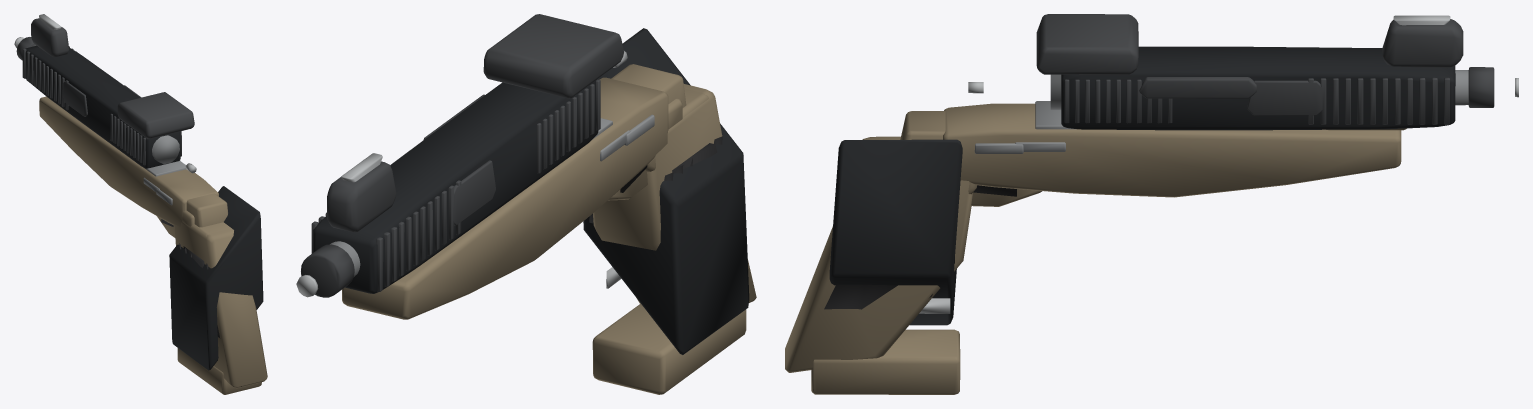
Rendered from five-seven.glb.
The picture shows the model from 3 angles, left to right: view 1: azimuth 30°, elevation 25°; view 2: azimuth 150°, elevation 25°; view 3: azimuth 270°, elevation 25°; orthographic projection. The views are drawn at different scales.
Parts seen in each view (by area): view 1: AccessoryRail_Batched, MagazineBody, SlideBody, RearSightBase, TriggerGuard, FrontSightBase, MagazineFloorPlate, Barrel_Batched, SlideScallopL, SlideRailBlock, MagazineWell; view 2: AccessoryRail_Batched, MagazineBody, SlideBody, RearSightBase, MagazineFloorPlate, FrontSightBase, BarrelCrown, TriggerGuard, SlideScallopL, Barrel_Batched, GripCheckering0_-1_Batched, FrontSightPost (+2 smaller); view 3: AccessoryRail_Batched, SlideBody, MagazineBody, MagazineFloorPlate, RearSightBase, FrontSightBase, SlideScallopR, EjectionPort, TriggerGuard, Barrel_Batched, GripCheckering0_-1_Batched, BarrelCrown (+1 smaller).
Part boxes in pixels (bbox=[...]): AccessoryRail_Batched: bbox=[39, 96, 267, 388]; MagazineBody: bbox=[169, 186, 263, 370]; SlideBody: bbox=[25, 45, 180, 168]; RearSightBase: bbox=[117, 92, 194, 138]; TriggerGuard: bbox=[157, 193, 227, 237]; FrontSightBase: bbox=[31, 18, 69, 57]; MagazineFloorPlate: bbox=[177, 348, 261, 394]; Barrel_Batched: bbox=[31, 44, 179, 192]; SlideScallopL: bbox=[62, 81, 87, 116]; SlideRailBlock: bbox=[144, 160, 186, 176]; MagazineWell: bbox=[173, 222, 231, 237]; AccessoryRail_Batched: bbox=[342, 77, 756, 319]; MagazineBody: bbox=[583, 28, 749, 354]; SlideBody: bbox=[313, 79, 598, 293]; RearSightBase: bbox=[483, 14, 623, 98]; MagazineFloorPlate: bbox=[592, 304, 746, 394]; FrontSightBase: bbox=[327, 161, 396, 232]; BarrelCrown: bbox=[301, 244, 354, 297]; TriggerGuard: bbox=[608, 64, 686, 200]; SlideScallopL: bbox=[453, 160, 495, 225]; Barrel_Batched: bbox=[330, 130, 630, 276]; GripCheckering0_-1_Batched: bbox=[589, 136, 722, 223]; FrontSightPost: bbox=[341, 153, 382, 182]; AccessoryRail_Batched: bbox=[785, 103, 1406, 372]; SlideBody: bbox=[1061, 46, 1455, 130]; MagazineBody: bbox=[829, 139, 962, 325]; MagazineFloorPlate: bbox=[811, 329, 960, 394]; RearSightBase: bbox=[1036, 14, 1138, 74]; FrontSightBase: bbox=[1382, 19, 1463, 67]; SlideScallopR: bbox=[1247, 80, 1322, 115]; EjectionPort: bbox=[1139, 77, 1257, 98]; TriggerGuard: bbox=[900, 111, 1042, 206]; Barrel_Batched: bbox=[1015, 70, 1468, 151]; GripCheckering0_-1_Batched: bbox=[824, 256, 954, 309]; BarrelCrown: bbox=[1468, 67, 1494, 107].
Size of the model in its own units: 0.0392 by 0.1556 by 0.2845.
